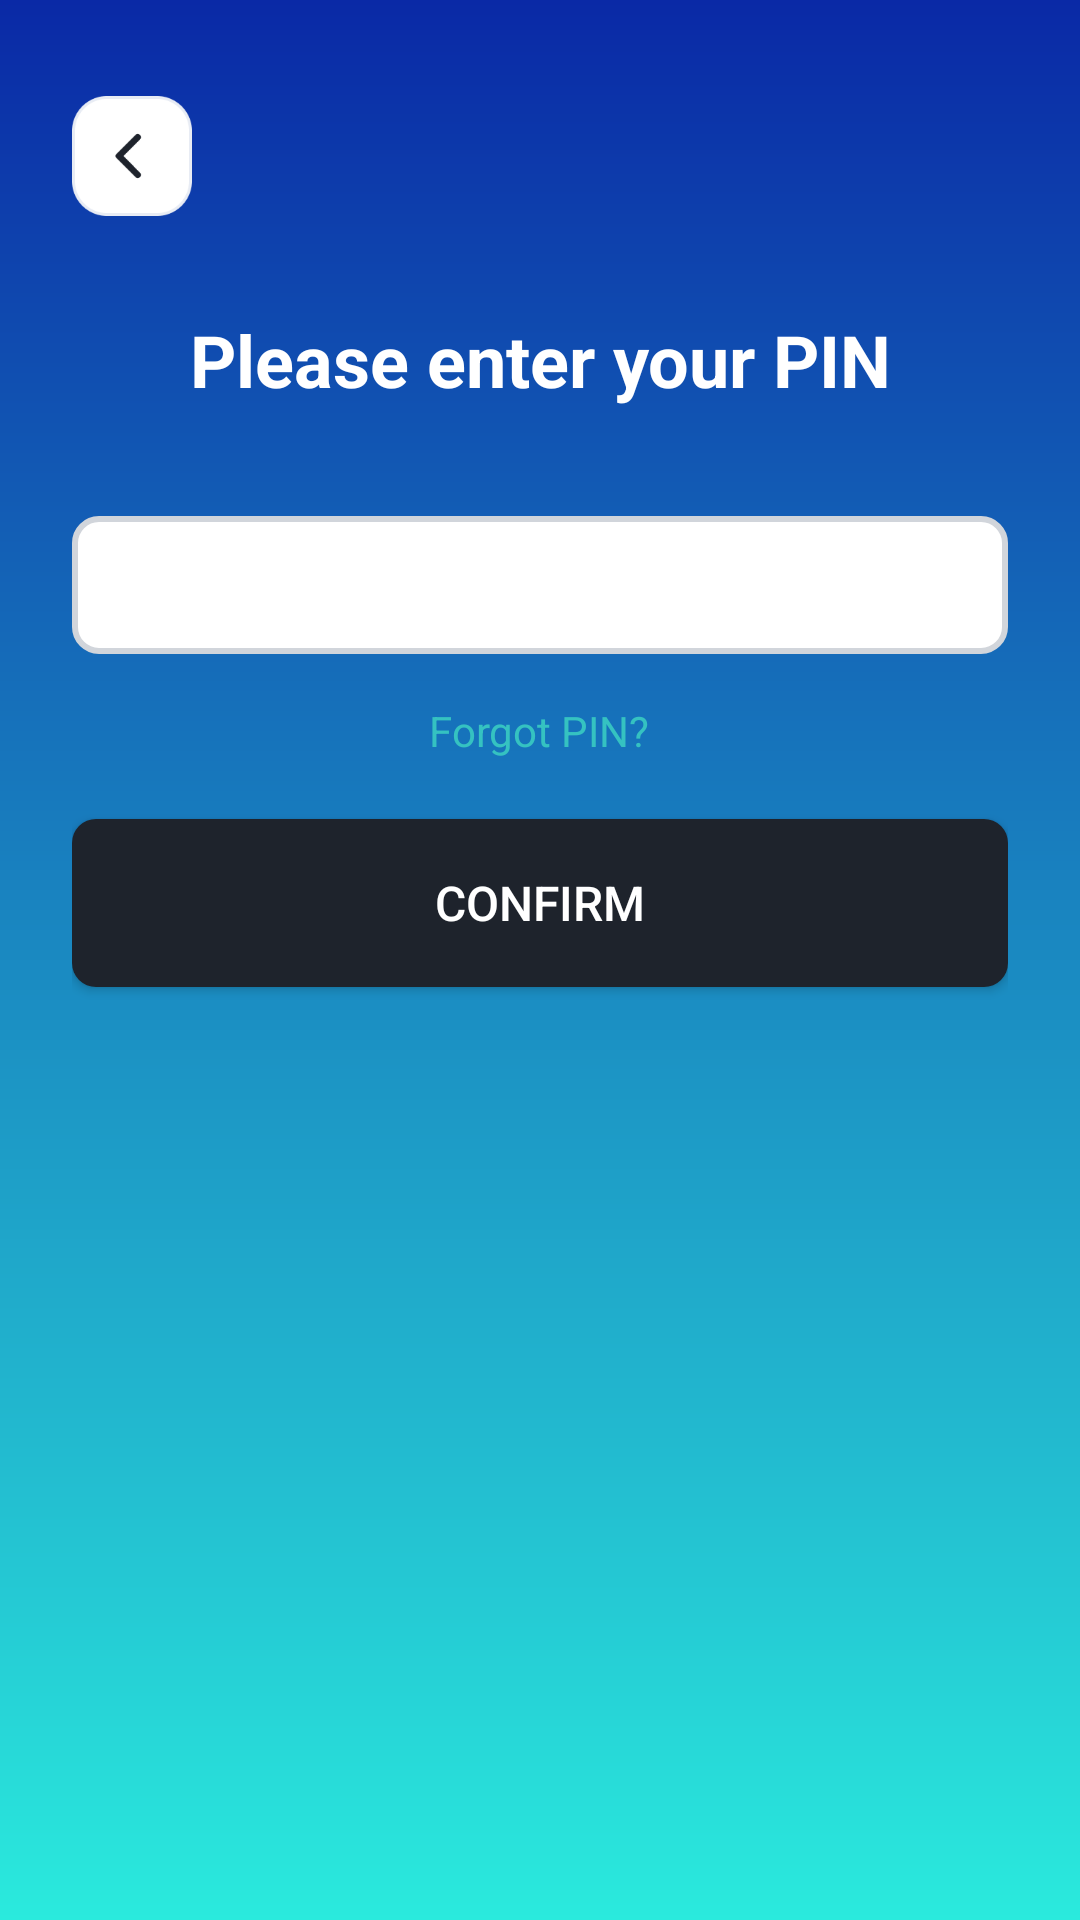

Screen size 1080px×1920px. Icon name, then its box in pixels as bbox=(x1, y1, x2, y2):
back: bbox=(72, 96, 192, 216)
